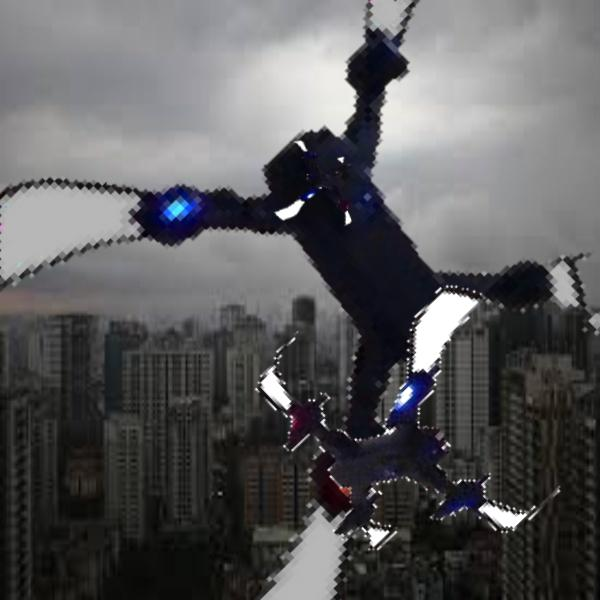drone: (268, 260, 587, 579), (256, 134, 363, 241)
